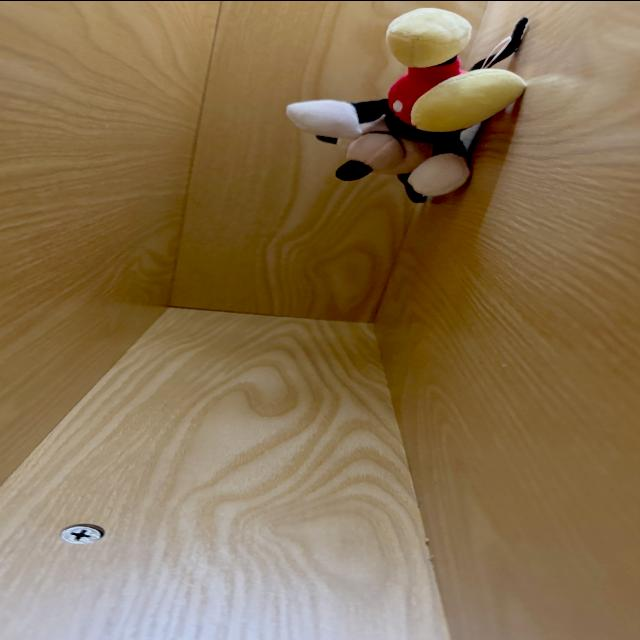mickey: (287, 8, 526, 201)
